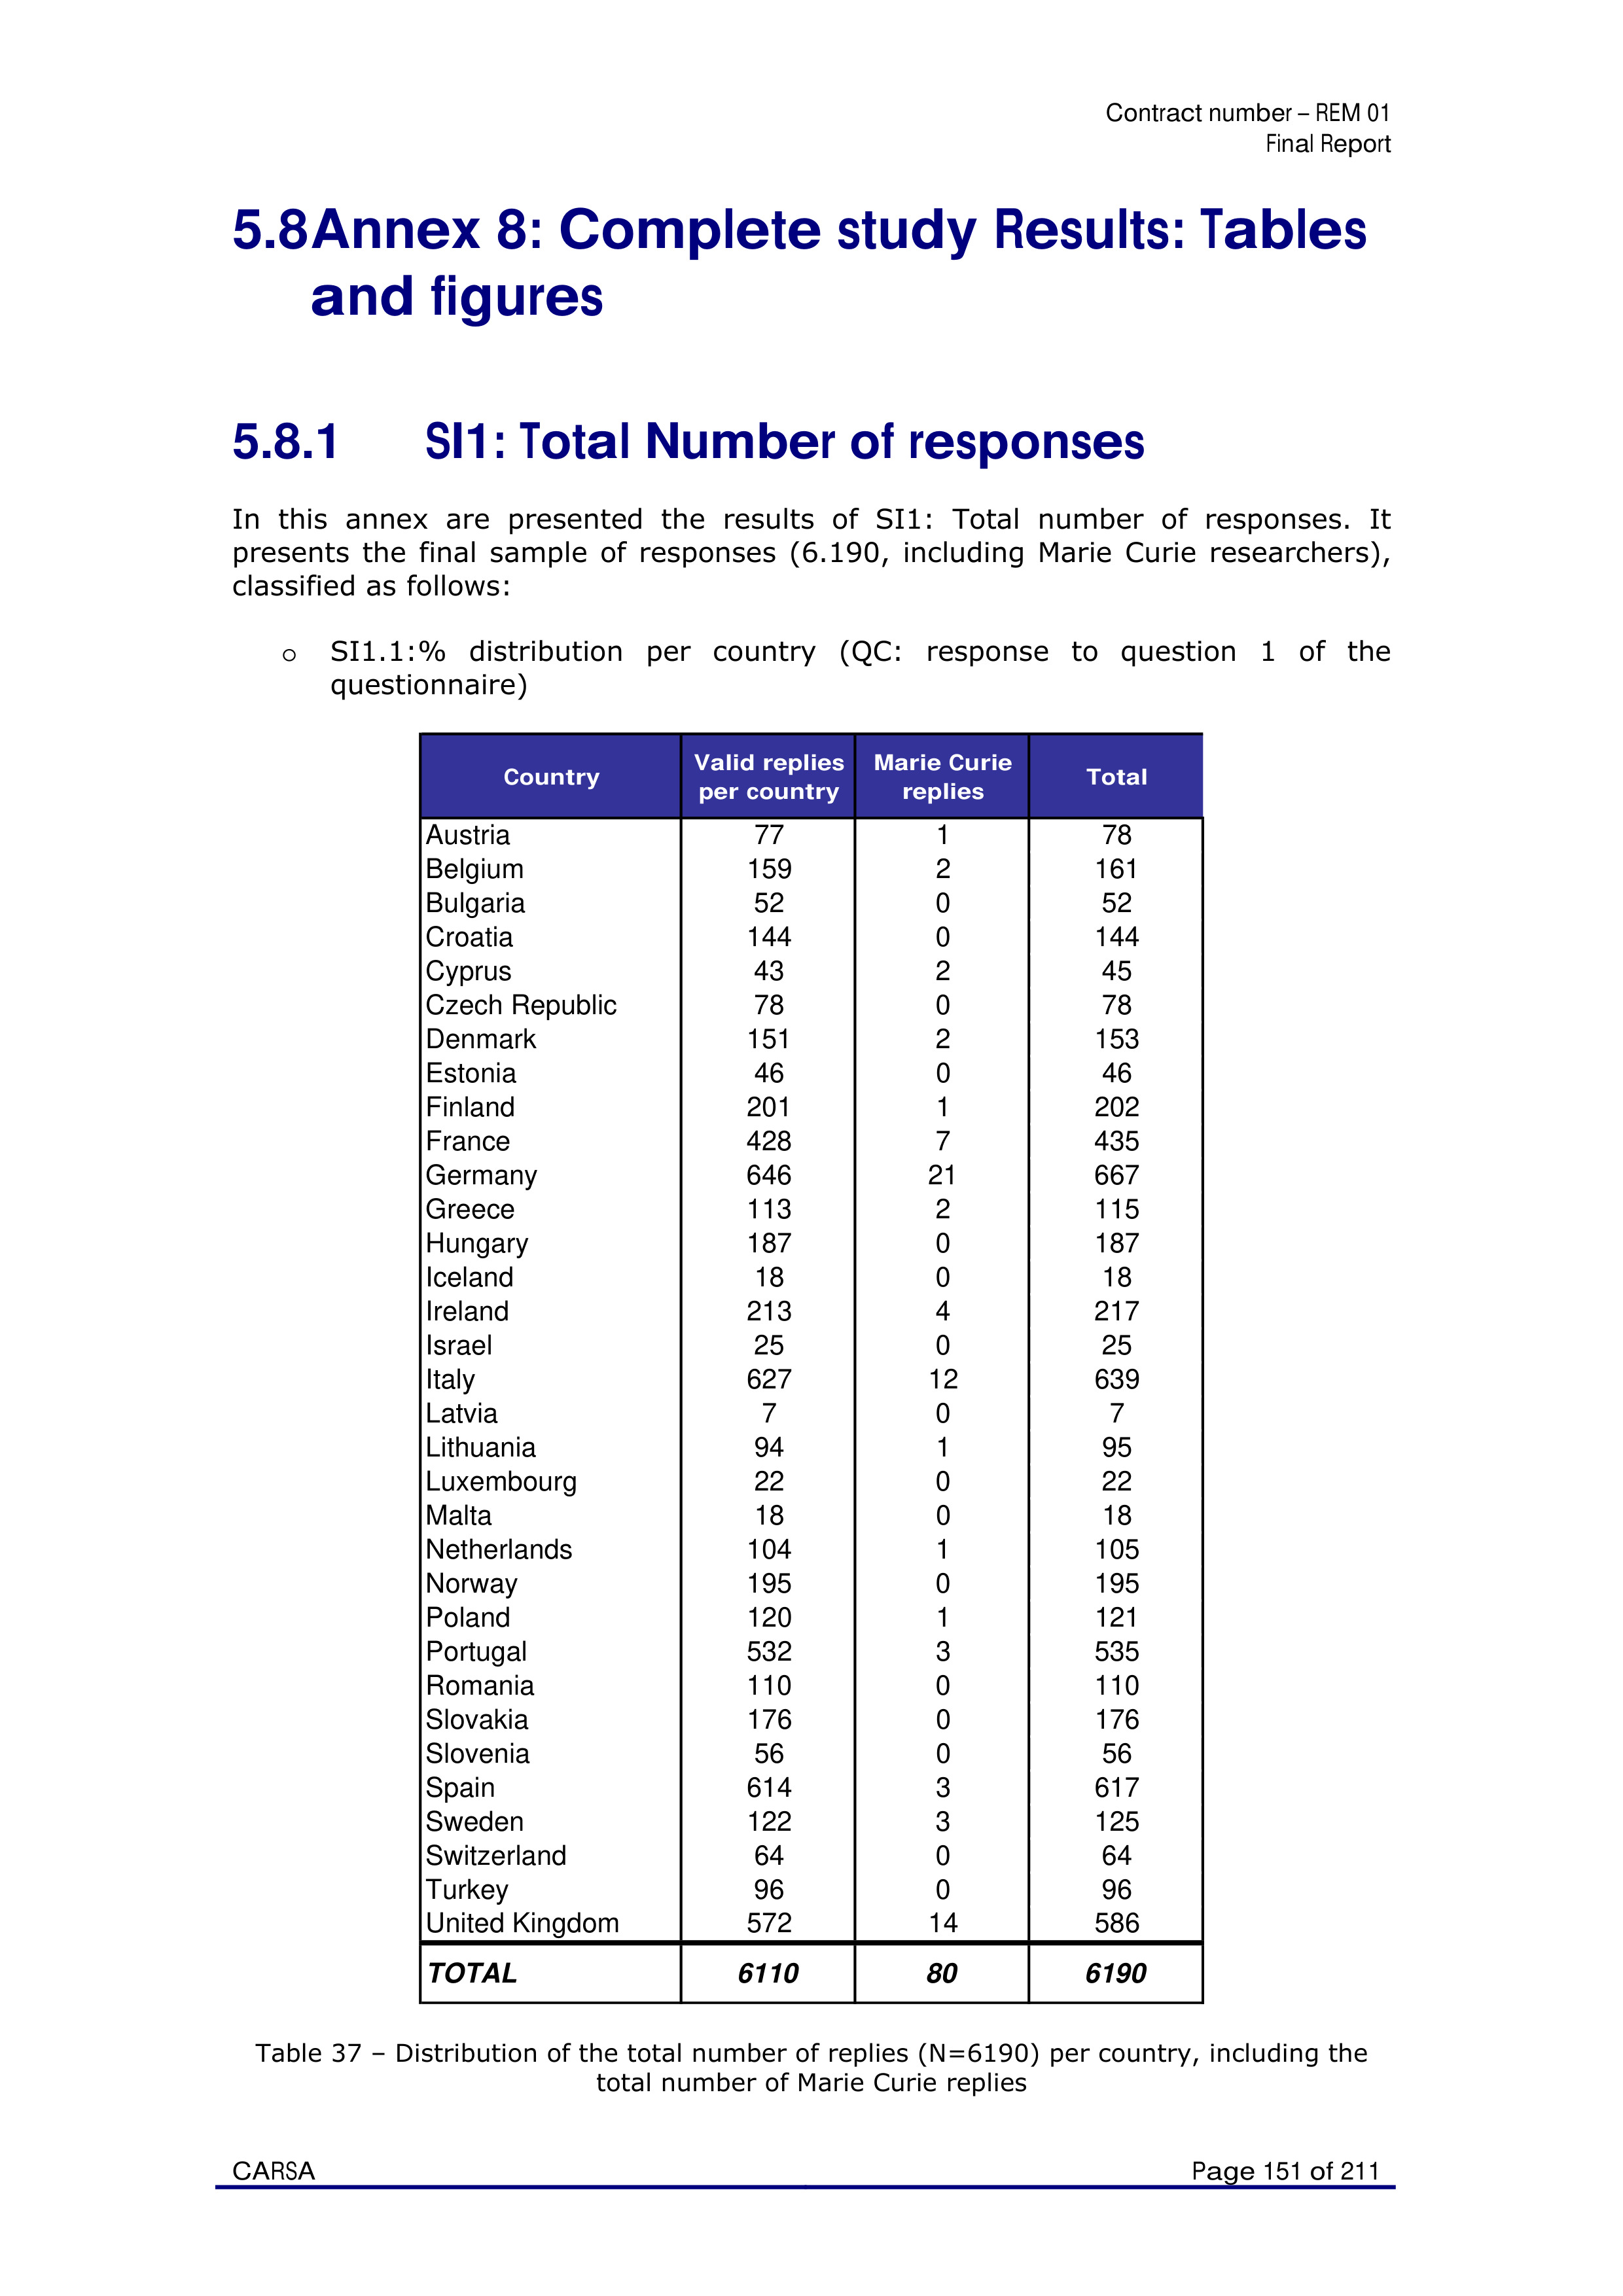table: (425, 746, 1149, 1991)
